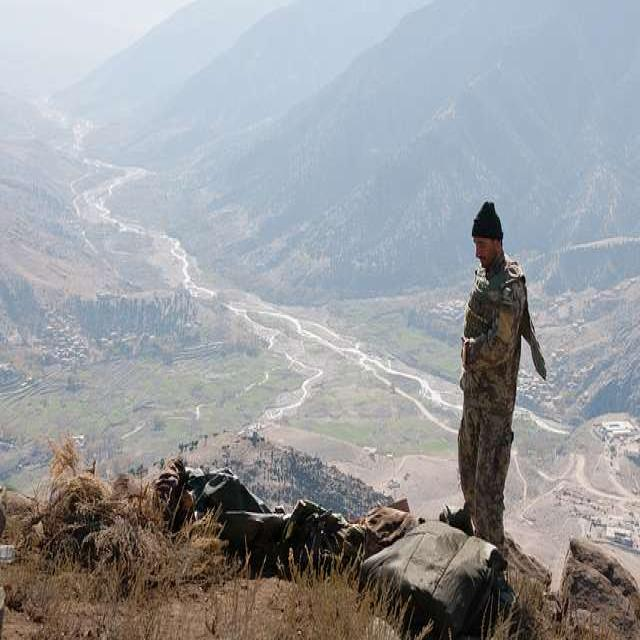Forest: (0, 0, 640, 640)
Militant: (424, 167, 560, 597)
